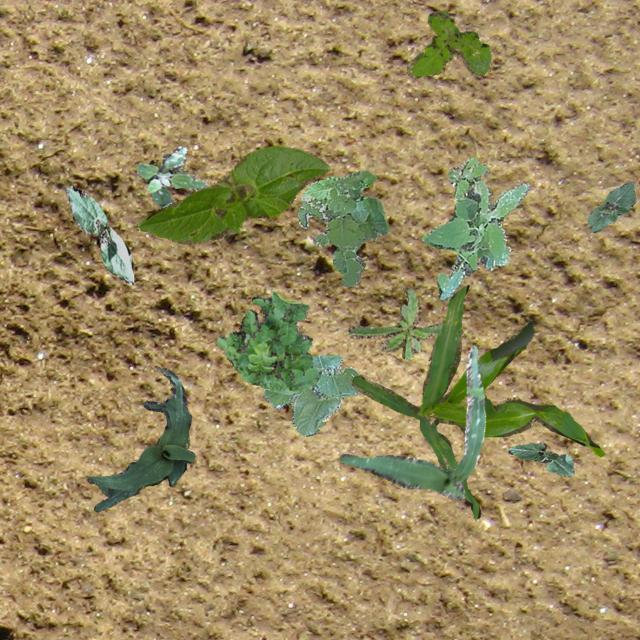crop: (350, 284, 604, 518), (338, 344, 484, 498), (138, 144, 328, 242), (86, 366, 195, 511), (262, 354, 358, 436), (64, 184, 132, 284), (586, 180, 634, 232), (508, 442, 572, 476)
weed: (420, 156, 530, 300), (216, 291, 320, 394), (296, 170, 388, 286), (347, 286, 442, 358), (404, 9, 488, 76), (136, 146, 207, 208)
